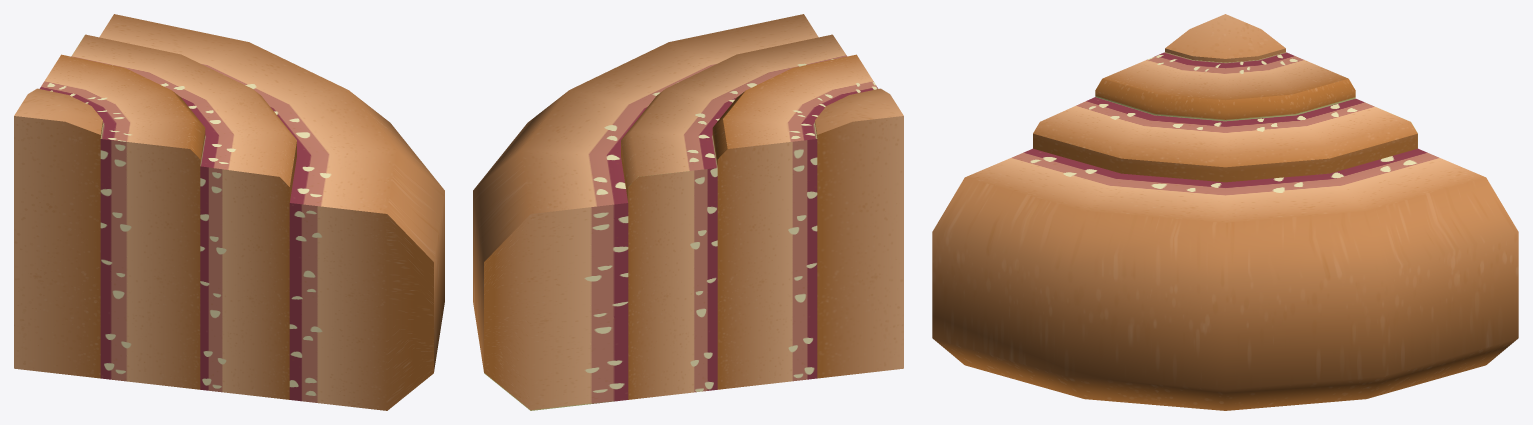
The model's file is cinnamon_roll_slice.fbx.
3 renders of one model, left to right at view 1: azimuth 30°, elevation 25°; view 2: azimuth 150°, elevation 25°; view 3: azimuth 270°, elevation 25°, orthographic. The views are drawn at different scales.
Visible parts, largest first — view 1: cinnamon_roll_slices; view 2: cinnamon_roll_slices; view 3: cinnamon_roll_slices.
Part boxes in pixels (bbox=[...]): cinnamon_roll_slices: bbox=[14, 14, 444, 410]; cinnamon_roll_slices: bbox=[473, 14, 903, 410]; cinnamon_roll_slices: bbox=[932, 14, 1518, 410].
Size of the model in its own units: 30 by 19.25 by 42.43.
